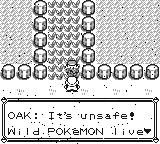captura: (47, 1, 81, 80)
main: (65, 60, 79, 77)
no-caminable: (80, 0, 159, 79), (0, 1, 47, 79)
npc: (64, 76, 80, 92)
texto: (0, 98, 159, 143)
